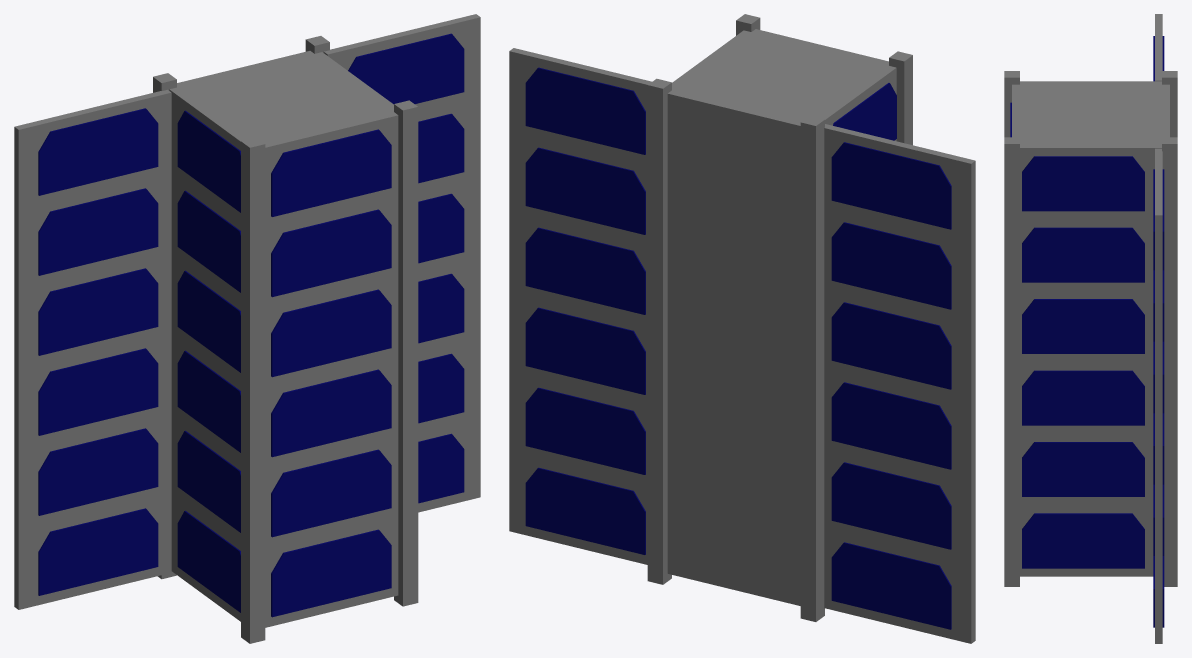
The model's file is cubesat.glb.
3 views of the same model, side by side, from view 1: azimuth 30°, elevation 25°; view 2: azimuth 150°, elevation 25°; view 3: azimuth 270°, elevation 25° (orthographic). The views are drawn at different scales.
Parts seen in each view (by area): view 1: Solar cells, Wings, Body, Columns; view 2: Solar cells, Body, Wings, Columns; view 3: Solar cells, Body, Columns, Wings.
Part boxes in pixels (x1,y1,x2,y2): Solar cells: [38, 33, 464, 617]; Wings: [14, 14, 480, 609]; Body: [169, 51, 398, 627]; Columns: [153, 36, 418, 643]; Solar cells: [525, 67, 951, 629]; Body: [667, 29, 896, 605]; Wings: [509, 48, 975, 643]; Columns: [647, 14, 912, 621]; Solar cells: [1010, 36, 1164, 627]; Body: [1012, 81, 1169, 576]; Columns: [1004, 71, 1177, 586]; Wings: [1155, 14, 1162, 643].
Bounding box in the file's own units: 3.02 × 3.1 × 1.1.
